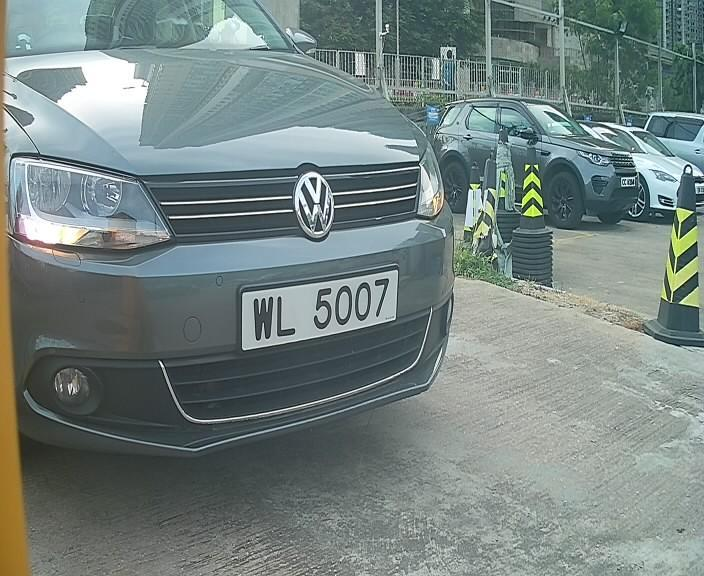privatecar: (4, 13, 478, 458)
